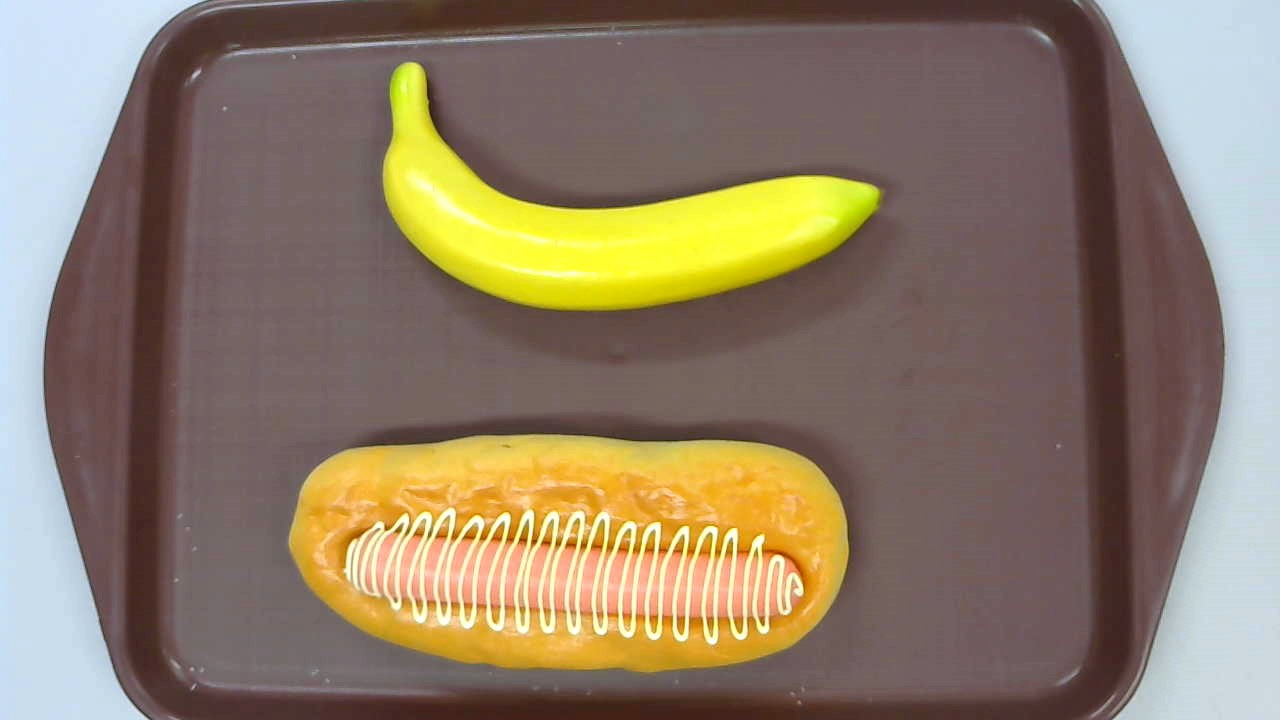banana: (380, 62, 883, 311)
hot dog: (287, 434, 849, 673)
